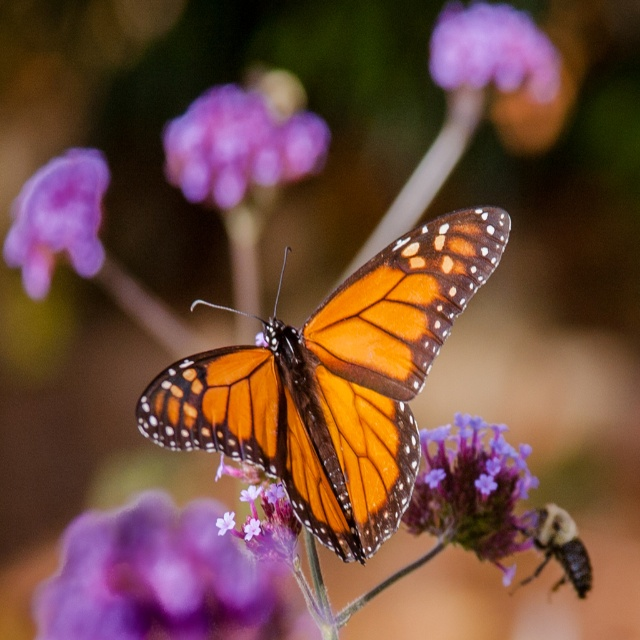Butterfly: (136, 201, 510, 562)
